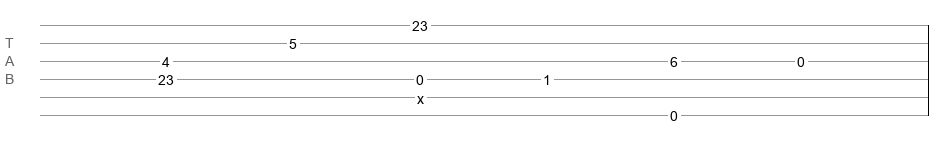0: (416, 72, 424, 82), (670, 108, 678, 118), (797, 54, 805, 64)
1: (543, 72, 551, 82)
23: (158, 72, 174, 82), (412, 18, 428, 28)
4: (162, 54, 170, 64)
5: (289, 36, 297, 46)
6: (670, 54, 678, 64)
x: (417, 91, 424, 99)
